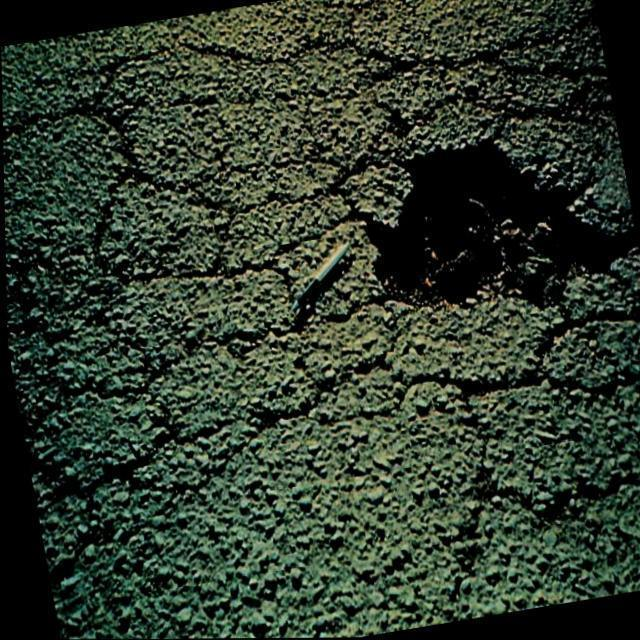Pothole: (367, 141, 637, 303)
